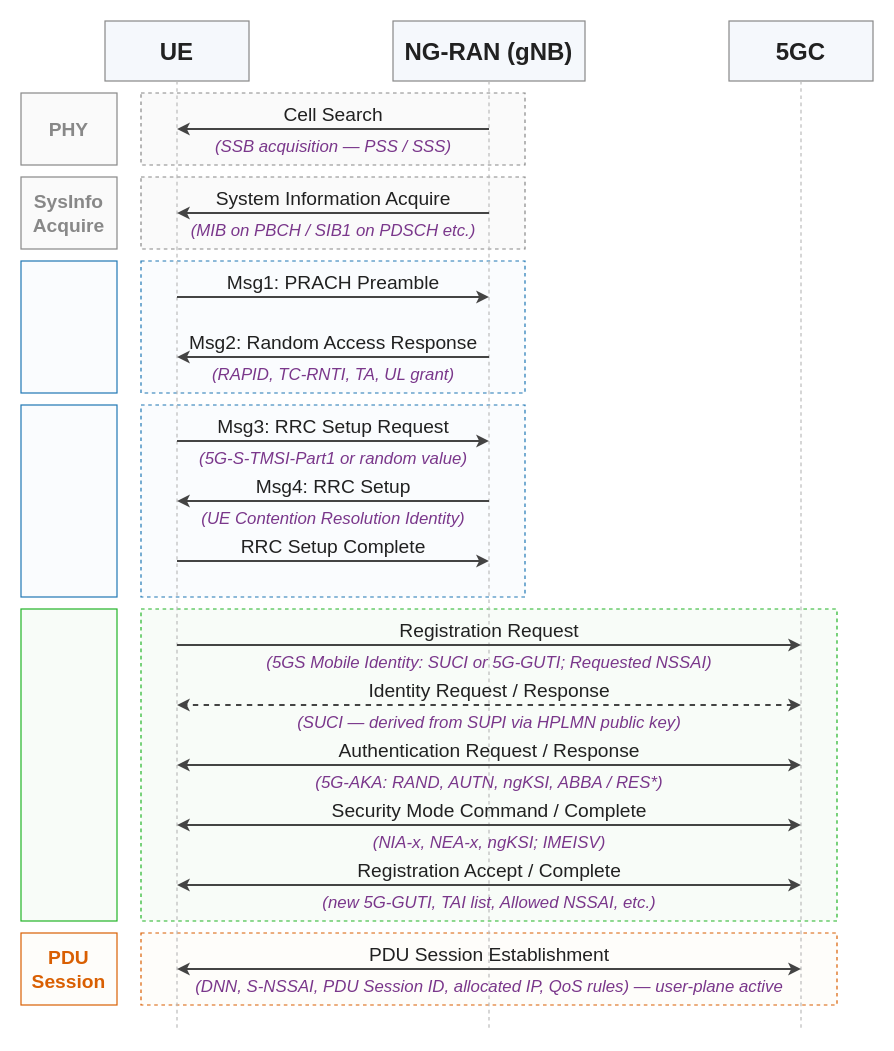
Image size: 894x1051. Some labels were removed from this diagram. Each missing label, with the centre of its shape:
MAC: the point at 68,326
NAS: the point at 68,764
RRC: the point at 68,500
